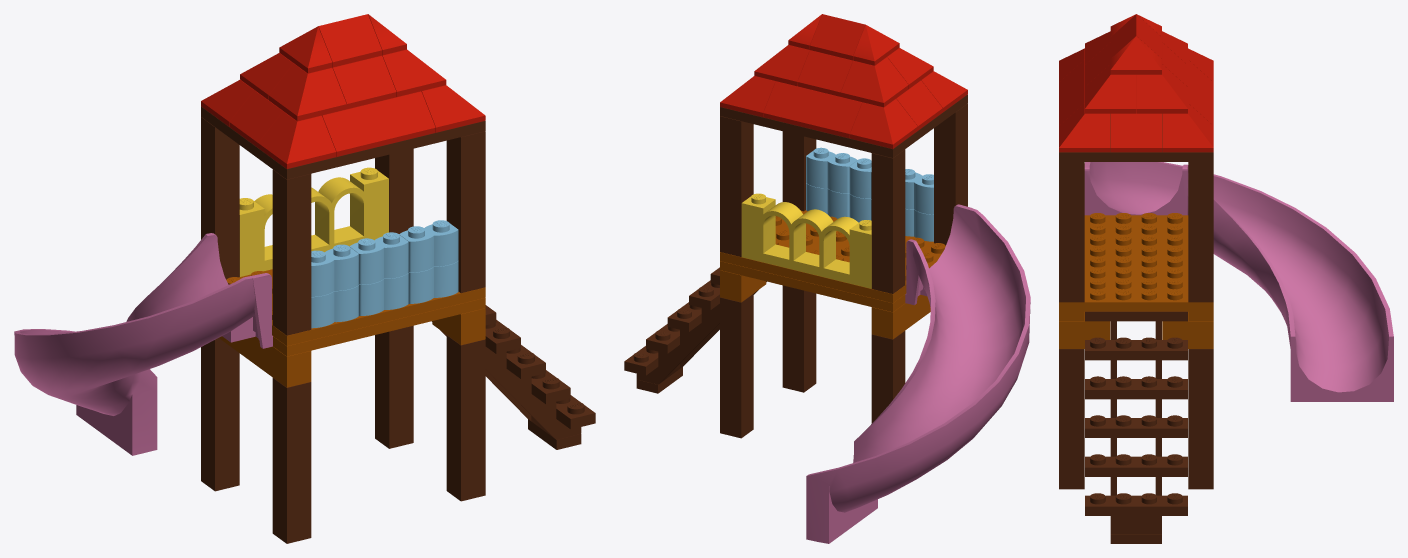
File: park.dae
3 renders of one model, left to right at view 1: azimuth 30°, elevation 25°; view 2: azimuth 150°, elevation 25°; view 3: azimuth 270°, elevation 25°, orthographic. The views are drawn at different scales.
Visible parts, largest first — view 1: Inner-Node-Toboggan_dot_io-7, Inner-Node-Toboggan_dot_io-42, Inner-Node-Toboggan_dot_io-8, Inner-Node-Toboggan_dot_io-1, Inner-Node-Toboggan_dot_io-4, Inner-Node-Toboggan_dot_io-14, Inner-Node-Toboggan_dot_io-0, Inner-Node-Toboggan_dot_io-13, Inner-Node-Toboggan_dot_io-15, Inner-Node-Toboggan_dot_io-28, Inner-Node-Toboggan_dot_io-3, Inner-Node-Toboggan_dot_io-17 (+21 smaller); view 2: Inner-Node-Toboggan_dot_io-7, Inner-Node-Toboggan_dot_io-42, Inner-Node-Toboggan_dot_io-8, Inner-Node-Toboggan_dot_io-15, Inner-Node-Toboggan_dot_io-3, Inner-Node-Toboggan_dot_io-16, Inner-Node-Toboggan_dot_io-14, Inner-Node-Toboggan_dot_io-12, Inner-Node-Toboggan_dot_io-4, Inner-Node-Toboggan_dot_io-29, Inner-Node-Toboggan_dot_io-0, Inner-Node-Toboggan_dot_io-17 (+21 smaller); view 3: Inner-Node-Toboggan_dot_io-7, Inner-Node-Toboggan_dot_io-8, Inner-Node-Toboggan_dot_io-12, Inner-Node-Toboggan_dot_io-3, Inner-Node-Toboggan_dot_io-4, Inner-Node-Toboggan_dot_io-13, Inner-Node-Toboggan_dot_io-16, Inner-Node-Toboggan_dot_io-31, Inner-Node-Toboggan_dot_io-35, Inner-Node-Toboggan_dot_io-25, Inner-Node-Toboggan_dot_io-36, Inner-Node-Toboggan_dot_io-24 (+14 smaller).
Boxes of the visible parts, x1,y1,x2,y2 form: Inner-Node-Toboggan_dot_io-7: (14, 233, 272, 455); Inner-Node-Toboggan_dot_io-42: (239, 167, 388, 276); Inner-Node-Toboggan_dot_io-8: (432, 305, 595, 439); Inner-Node-Toboggan_dot_io-1: (272, 378, 311, 543); Inner-Node-Toboggan_dot_io-4: (446, 335, 485, 501); Inner-Node-Toboggan_dot_io-14: (272, 169, 311, 335); Inner-Node-Toboggan_dot_io-0: (201, 338, 239, 491); Inner-Node-Toboggan_dot_io-13: (446, 131, 485, 293); Inner-Node-Toboggan_dot_io-15: (201, 117, 239, 279); Inner-Node-Toboggan_dot_io-28: (322, 91, 435, 156); Inner-Node-Toboggan_dot_io-3: (375, 325, 413, 448); Inner-Node-Toboggan_dot_io-17: (201, 106, 485, 179); Inner-Node-Toboggan_dot_io-7: (806, 204, 1030, 543); Inner-Node-Toboggan_dot_io-42: (741, 193, 871, 288); Inner-Node-Toboggan_dot_io-8: (624, 267, 766, 384); Inner-Node-Toboggan_dot_io-15: (871, 149, 905, 293); Inner-Node-Toboggan_dot_io-3: (720, 294, 753, 438); Inner-Node-Toboggan_dot_io-16: (720, 116, 753, 256); Inner-Node-Toboggan_dot_io-14: (934, 103, 967, 245); Inner-Node-Toboggan_dot_io-12: (720, 210, 945, 302); Inner-Node-Toboggan_dot_io-4: (782, 285, 816, 392); Inner-Node-Toboggan_dot_io-29: (763, 81, 862, 138); Inner-Node-Toboggan_dot_io-0: (871, 331, 905, 423); Inner-Node-Toboggan_dot_io-17: (720, 94, 967, 157); Inner-Node-Toboggan_dot_io-7: (1084, 162, 1393, 401); Inner-Node-Toboggan_dot_io-8: (1085, 311, 1187, 534); Inner-Node-Toboggan_dot_io-12: (1059, 213, 1213, 311); Inner-Node-Toboggan_dot_io-3: (1188, 349, 1213, 489); Inner-Node-Toboggan_dot_io-4: (1059, 349, 1084, 489); Inner-Node-Toboggan_dot_io-13: (1059, 162, 1084, 302); Inner-Node-Toboggan_dot_io-16: (1188, 162, 1213, 302); Inner-Node-Toboggan_dot_io-31: (1110, 103, 1161, 152); Inner-Node-Toboggan_dot_io-35: (1085, 64, 1136, 113); Inner-Node-Toboggan_dot_io-25: (1059, 103, 1110, 152); Inner-Node-Toboggan_dot_io-36: (1136, 64, 1187, 113); Inner-Node-Toboggan_dot_io-24: (1162, 103, 1213, 152).
Size of the model in its own units: 379 by 360 by 259.
